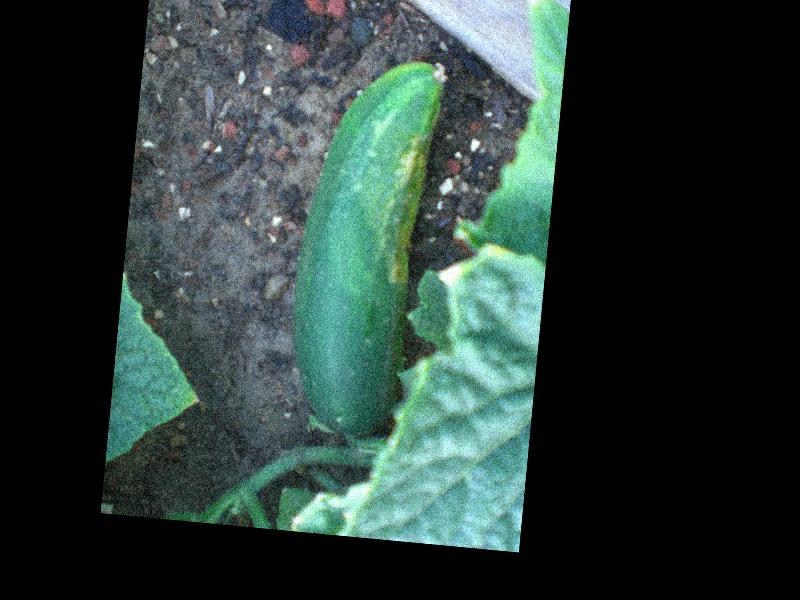Cucumber: (283, 51, 448, 439)
